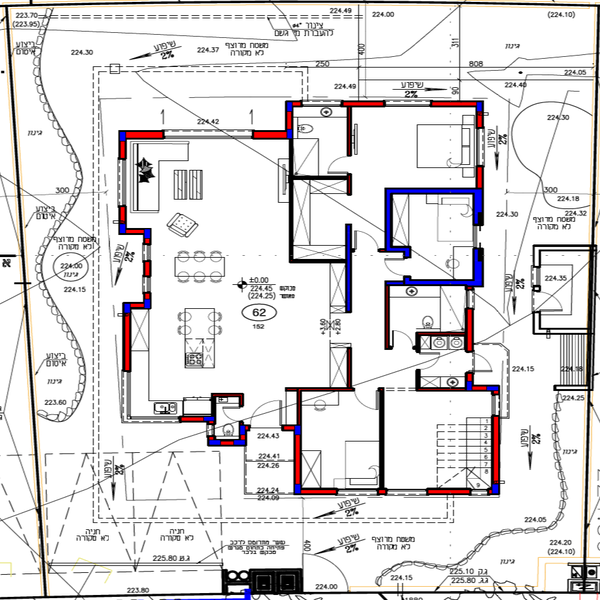door: (251, 401, 292, 432), (351, 376, 380, 412), (346, 226, 381, 254), (382, 252, 414, 277), (466, 351, 497, 375), (327, 154, 357, 176), (416, 348, 439, 372), (388, 325, 413, 346), (224, 399, 246, 422)
room: (106, 127, 304, 425), (285, 97, 490, 287), (294, 386, 505, 500), (387, 278, 480, 394)
wall: (384, 184, 477, 199), (287, 141, 297, 262), (376, 386, 387, 489), (407, 275, 487, 289), (488, 416, 502, 496), (344, 223, 356, 316), (121, 301, 137, 368), (287, 480, 340, 498), (291, 422, 305, 488), (382, 187, 396, 251), (114, 127, 166, 144), (467, 244, 487, 285), (297, 167, 348, 183), (341, 110, 357, 155), (349, 94, 386, 113), (286, 383, 357, 391), (286, 255, 345, 264), (431, 484, 469, 497), (346, 349, 357, 392), (256, 129, 291, 141), (117, 207, 129, 233), (127, 229, 154, 238)
window: (167, 124, 252, 144), (346, 487, 424, 501), (109, 162, 132, 205), (468, 125, 489, 163), (389, 95, 431, 110), (140, 241, 156, 262), (141, 278, 155, 294)
